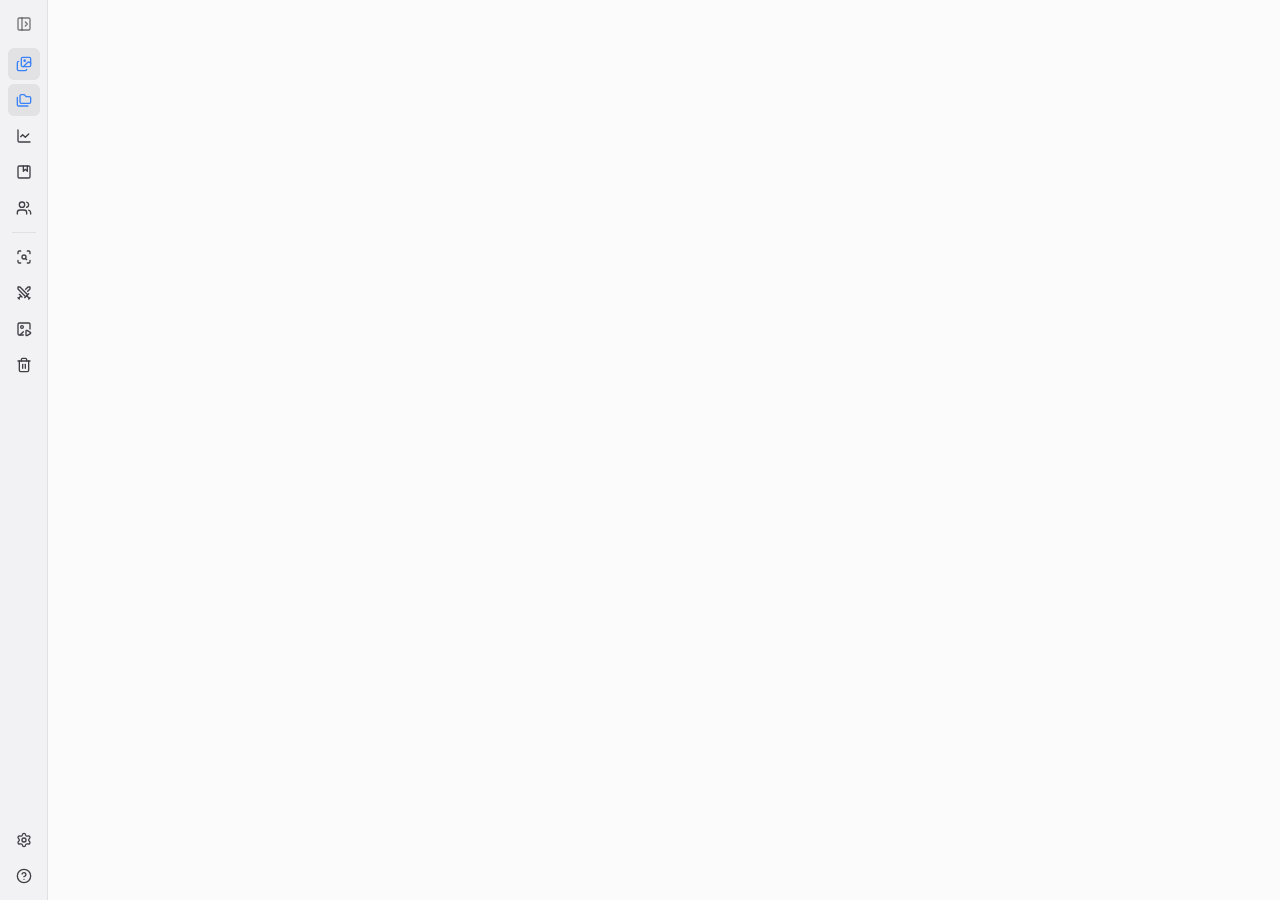
Sidebar › shows current, pinned, and recent folders without duplicates
Click the button named "文件夹快捷入口" at (24, 100), box 8,84 -> 40,116
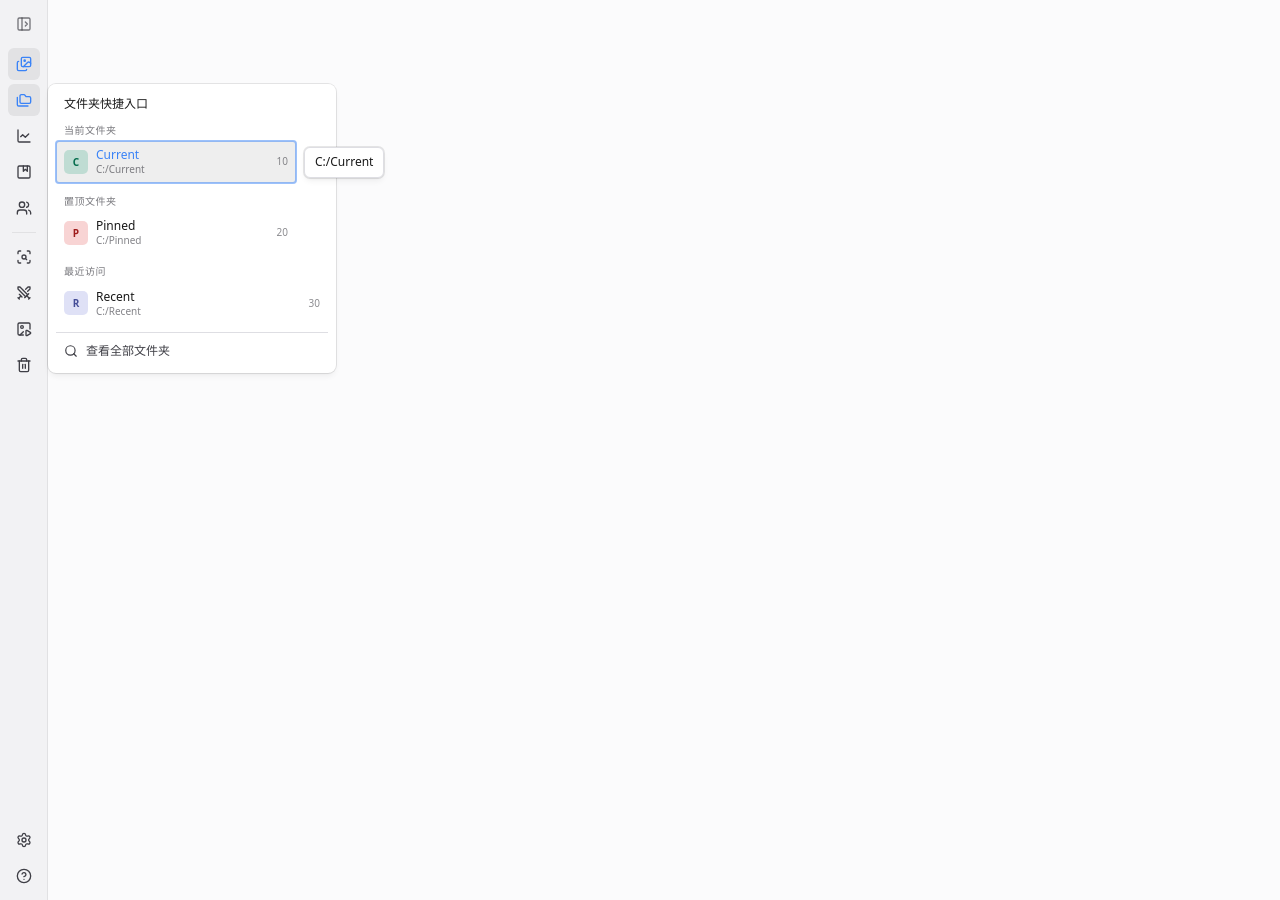
Check: the element "当前文件夹" shows "Current", box 56,141 -> 296,183
Check: the element "置顶文件夹" shows "Pinned", box 56,212 -> 296,253
Check: the element "最近访问" shows "Recent", box 56,283 -> 328,324
